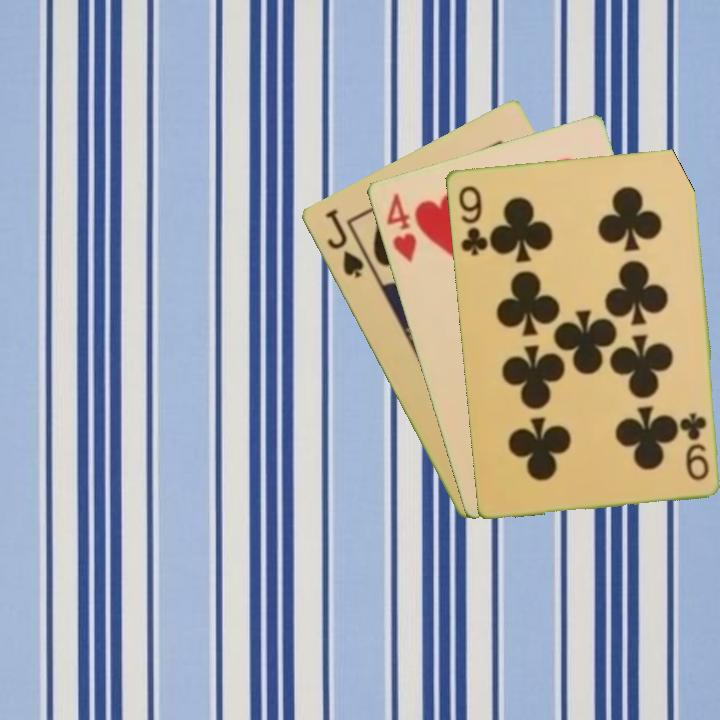4h: (382, 189, 419, 266)
9c: (454, 182, 490, 258), (678, 408, 711, 483)
Js: (321, 205, 366, 281)
